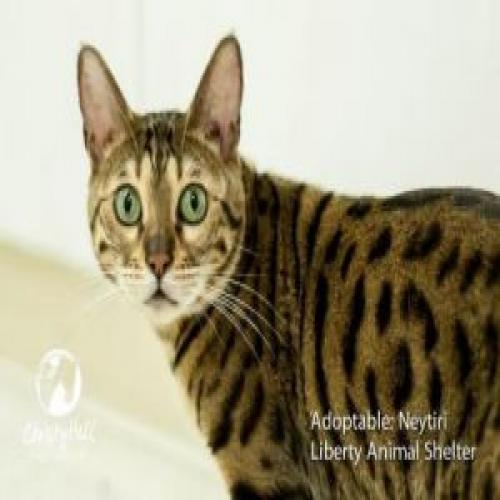cat-face: (63, 32, 260, 324)
